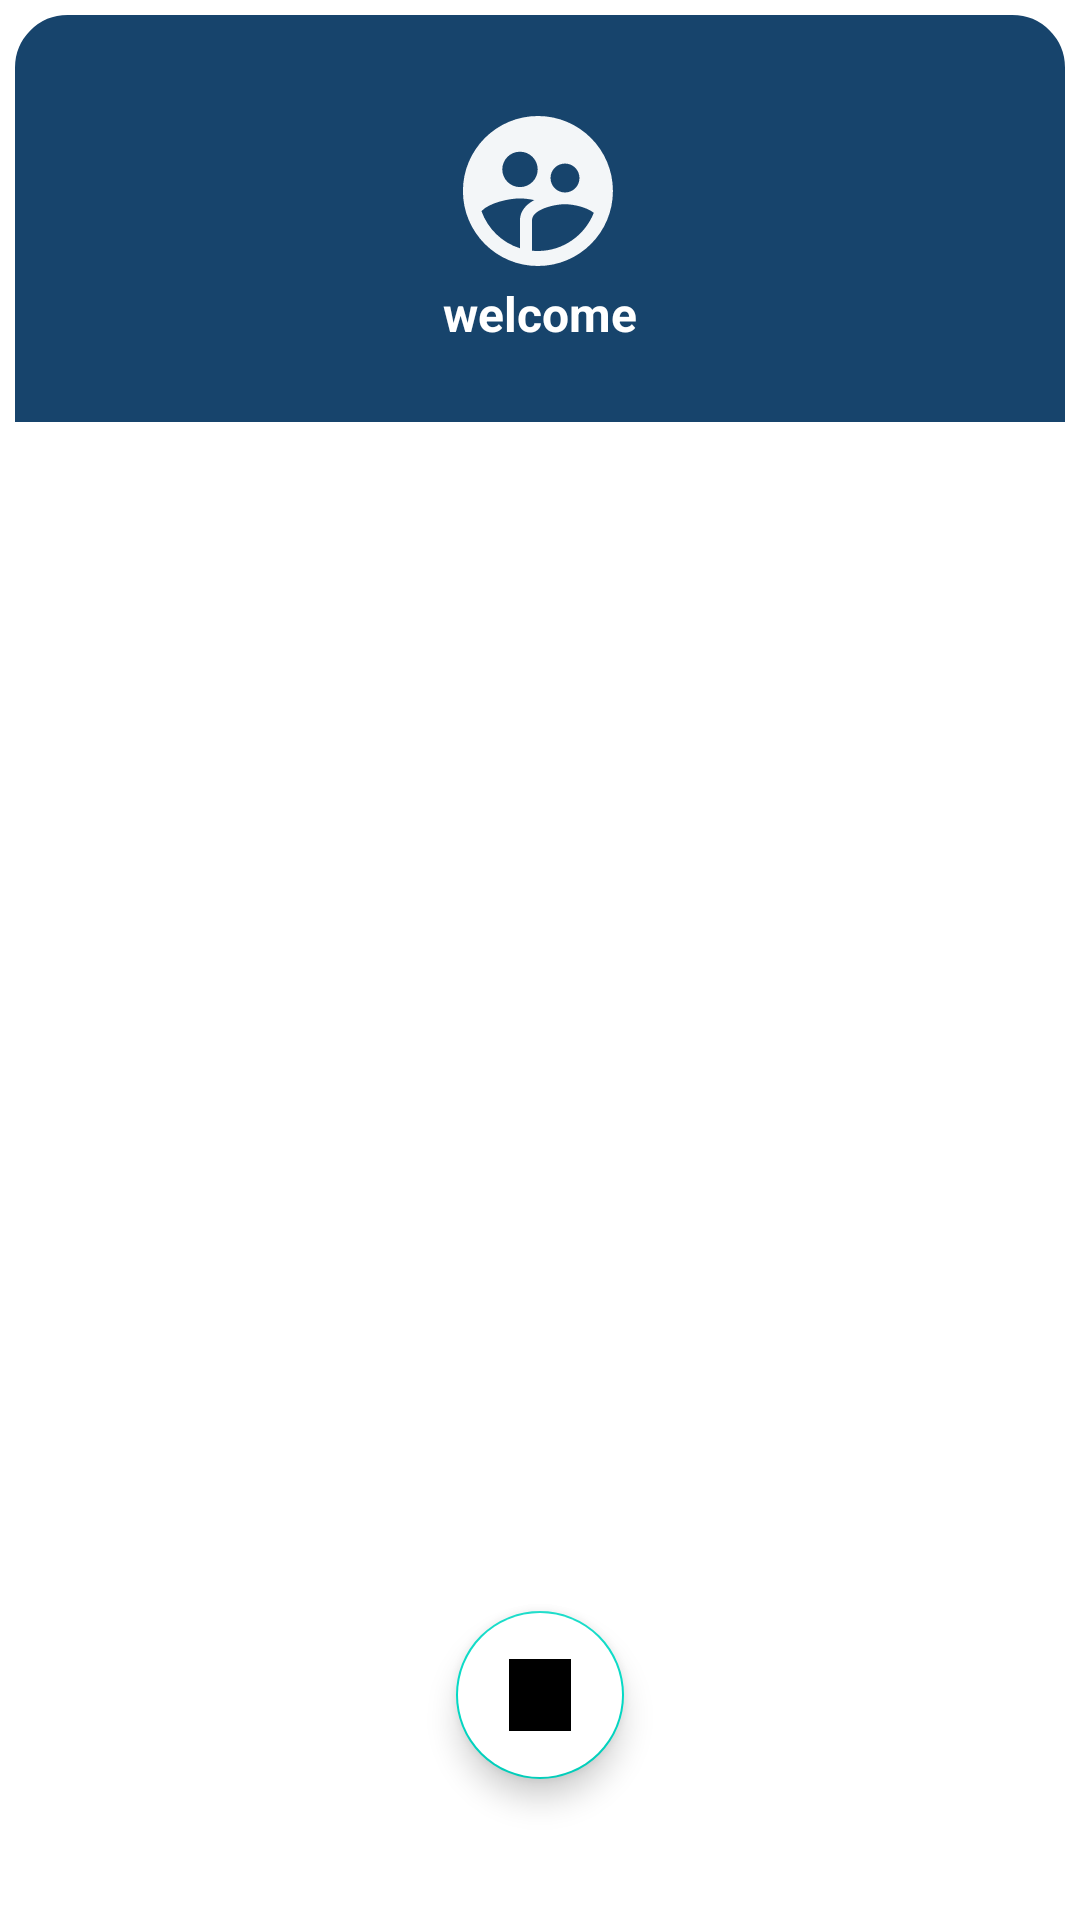

Screen size 1080 x 1920. Icon name, then its center in pixels as (x,y):
supervised user circle: (538,191)
